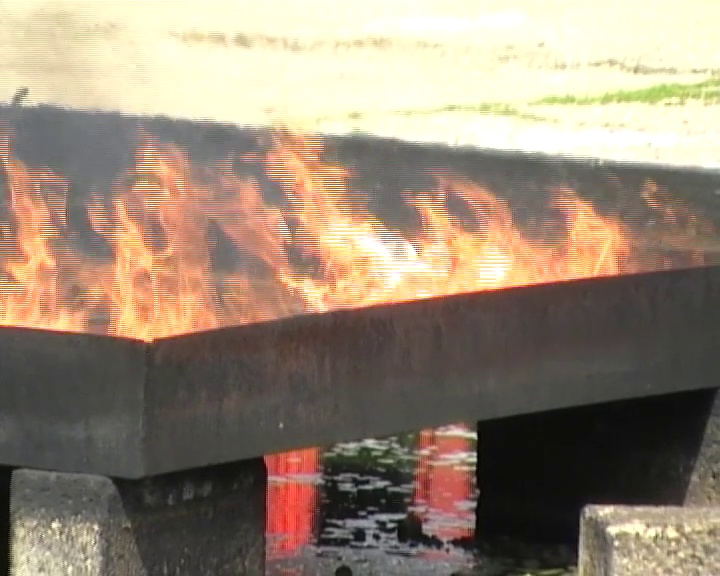fire: (1, 140, 620, 340)
